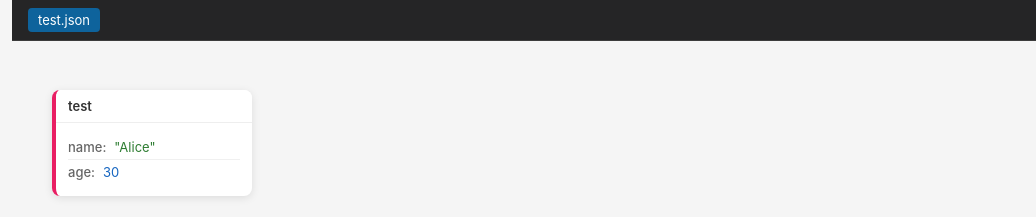
Context Menu › Menu Behavior › should show context menu when right-clicking property key
Step 1. Right-click the text "name:" → coordinates (87, 147), box 68,139 -> 106,155
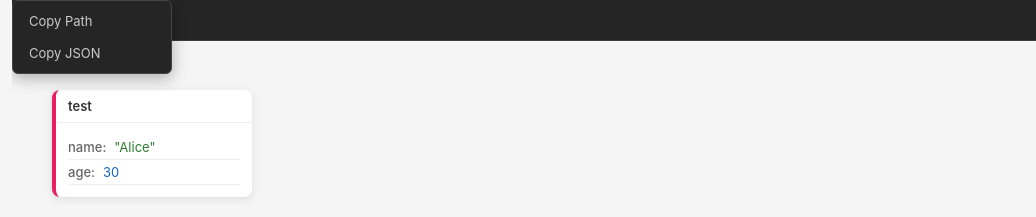
Expected: the button "Copy Path" is shown, 13,5 -> 171,37
Expected: the button "Copy JSON" is shown, 13,37 -> 171,69
